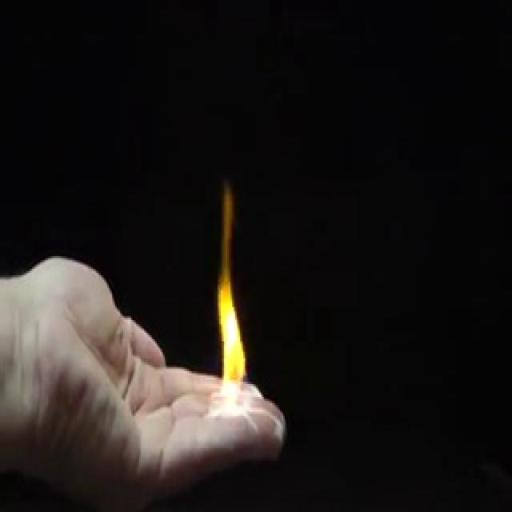smoke: (208, 304, 253, 434)
